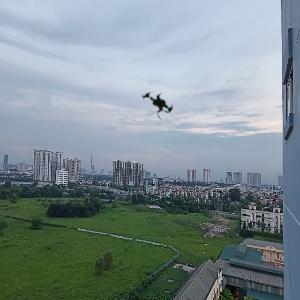drone: (131, 80, 184, 133)
